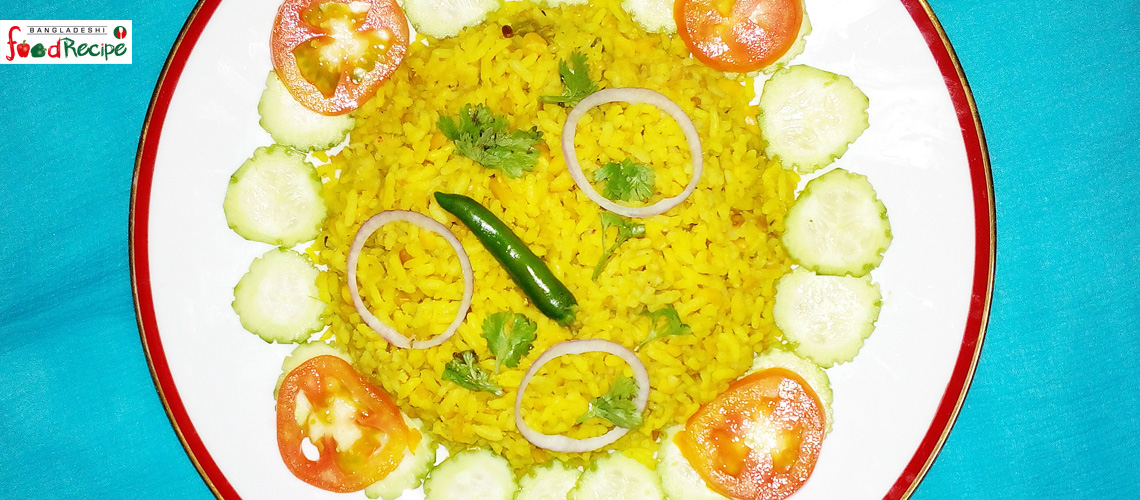khichuri: (323, 28, 821, 439)
